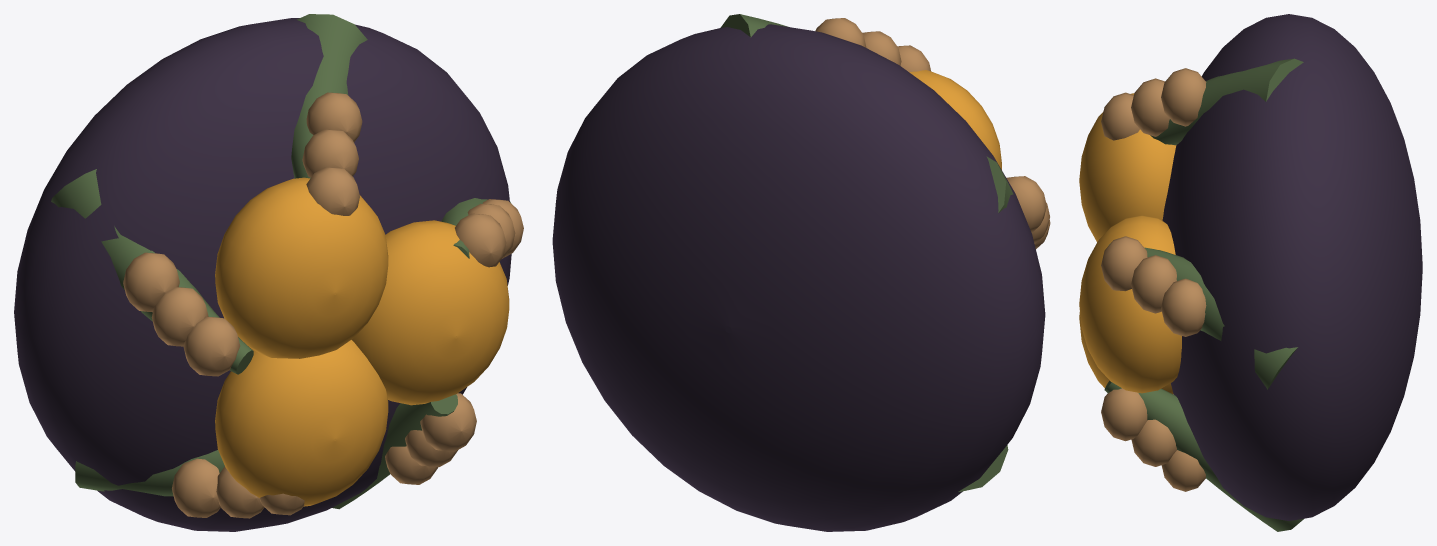
The model's file is boss_spore.glb.
3 views of the same model, side by side, from view 1: azimuth 30°, elevation 25°; view 2: azimuth 150°, elevation 25°; view 3: azimuth 270°, elevation 25° (orthographic). The views are drawn at different scales.
Parts seen in each view (by area): view 1: boss_spore; view 2: boss_spore; view 3: boss_spore.
Part boxes in pixels (x1,y1,x2,y2): boss_spore: [14, 14, 523, 531]; boss_spore: [552, 14, 1050, 531]; boss_spore: [1079, 14, 1422, 531].
Bounding box in the file's own units: 1.92 × 1.87 × 1.26.
